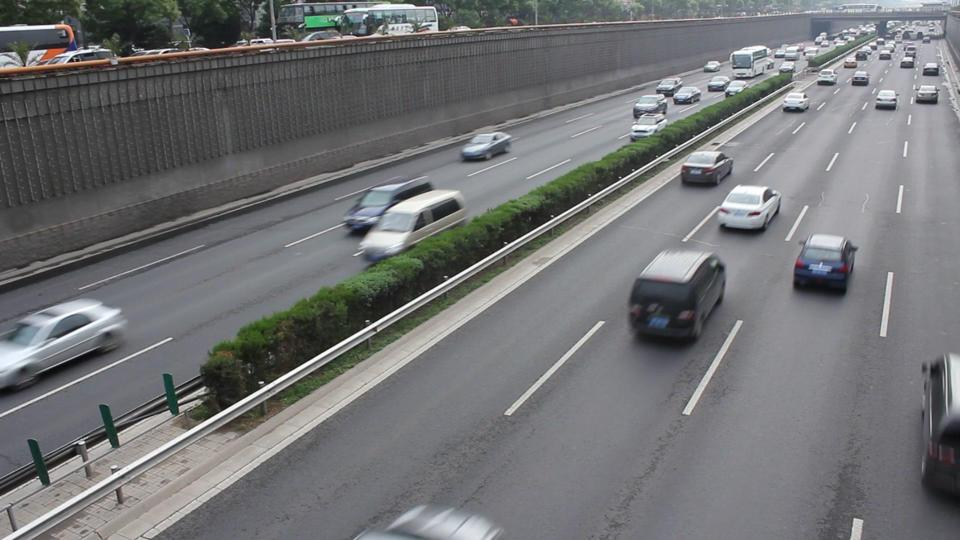bus: (920, 353, 960, 499), (277, 1, 420, 35), (345, 4, 440, 36)
car: (0, 298, 130, 393), (626, 241, 727, 345), (355, 188, 468, 264), (343, 174, 436, 234), (792, 233, 858, 291), (716, 184, 783, 231), (680, 150, 735, 186), (461, 132, 513, 161), (39, 48, 120, 66), (629, 114, 667, 141), (633, 94, 669, 117), (914, 83, 939, 104), (783, 93, 809, 113), (673, 87, 703, 104), (875, 89, 899, 110), (656, 78, 684, 94), (817, 70, 838, 85), (850, 71, 870, 86), (727, 81, 746, 96), (709, 76, 726, 92), (839, 54, 856, 70), (922, 63, 940, 77), (704, 58, 719, 72), (781, 61, 796, 74), (788, 45, 800, 59), (900, 57, 915, 68), (877, 50, 888, 64), (858, 52, 870, 64), (808, 50, 818, 60)
truck: (1, 23, 78, 60), (726, 45, 772, 76)
